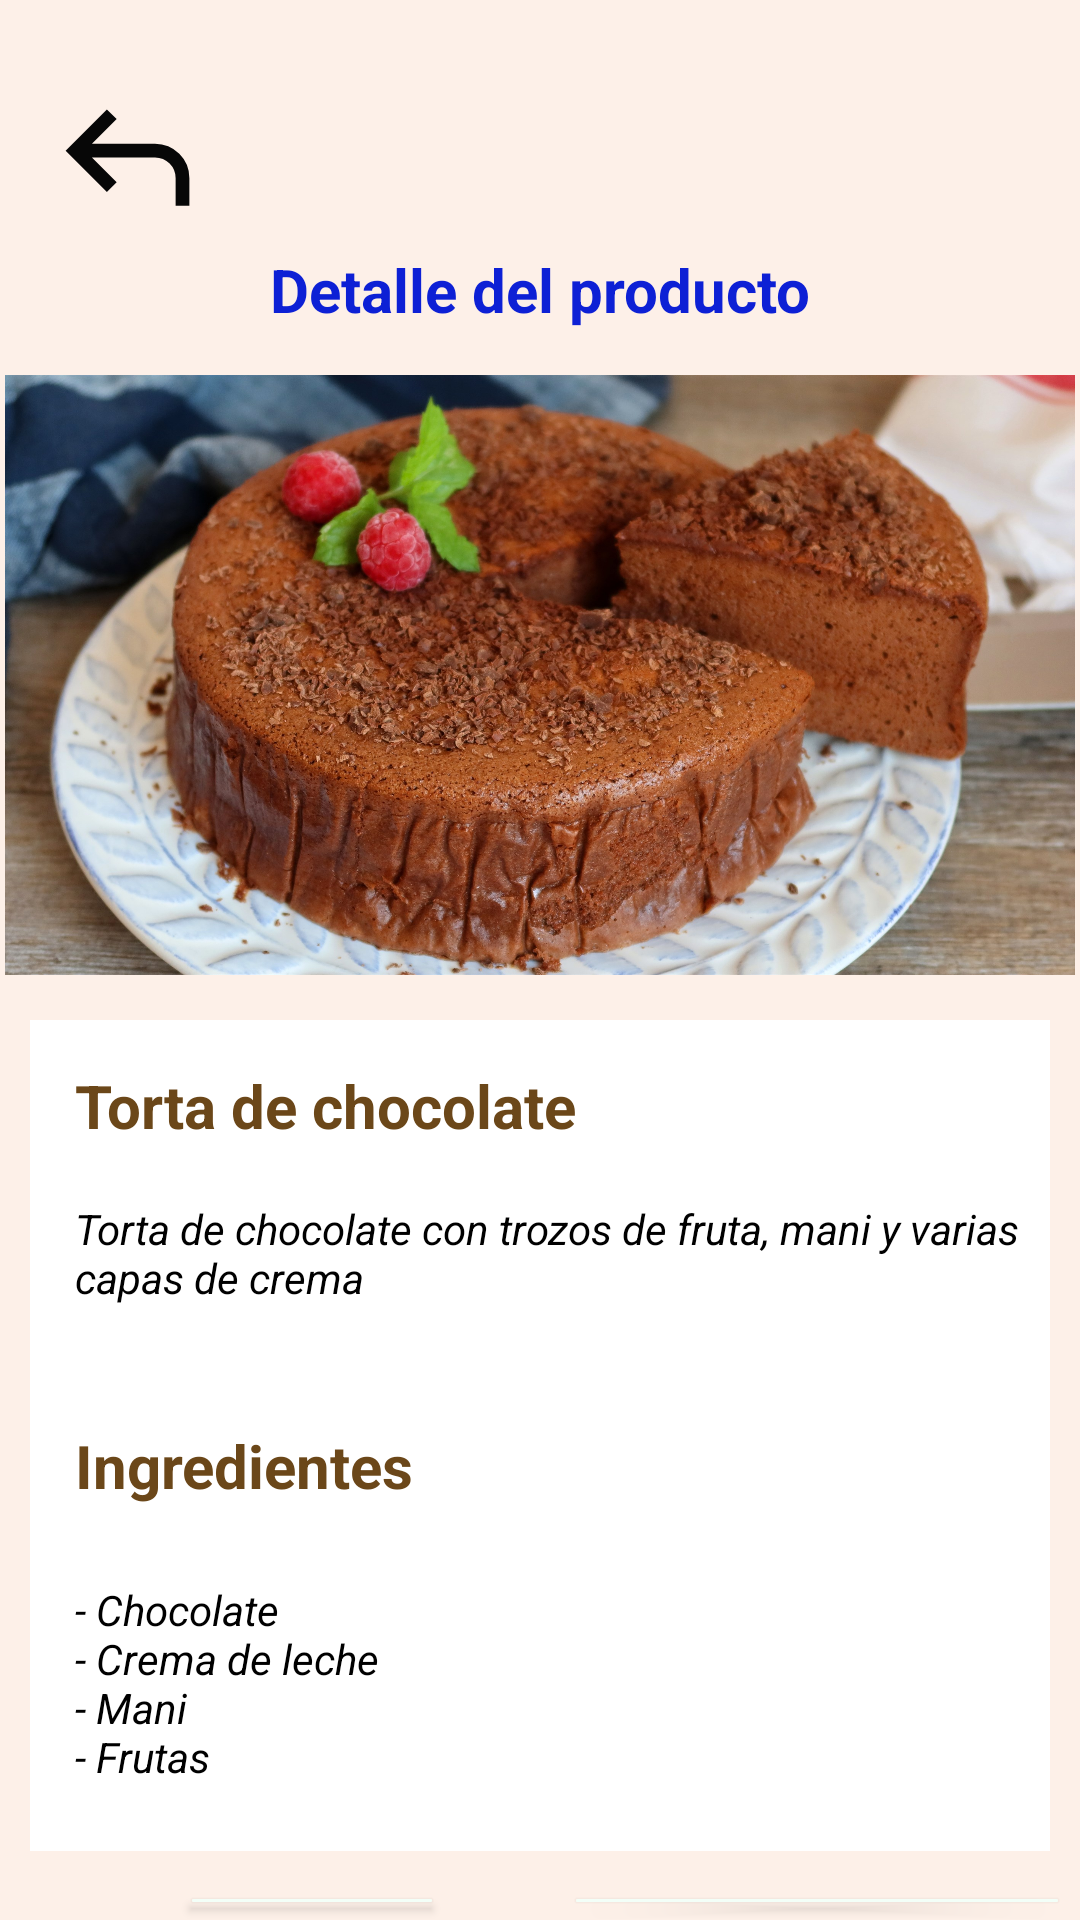

Locate icon controls on the screen. Image size 1080×1920, boxes as (x1, y1, x2, y2).
regresar: (65, 109, 190, 206)
